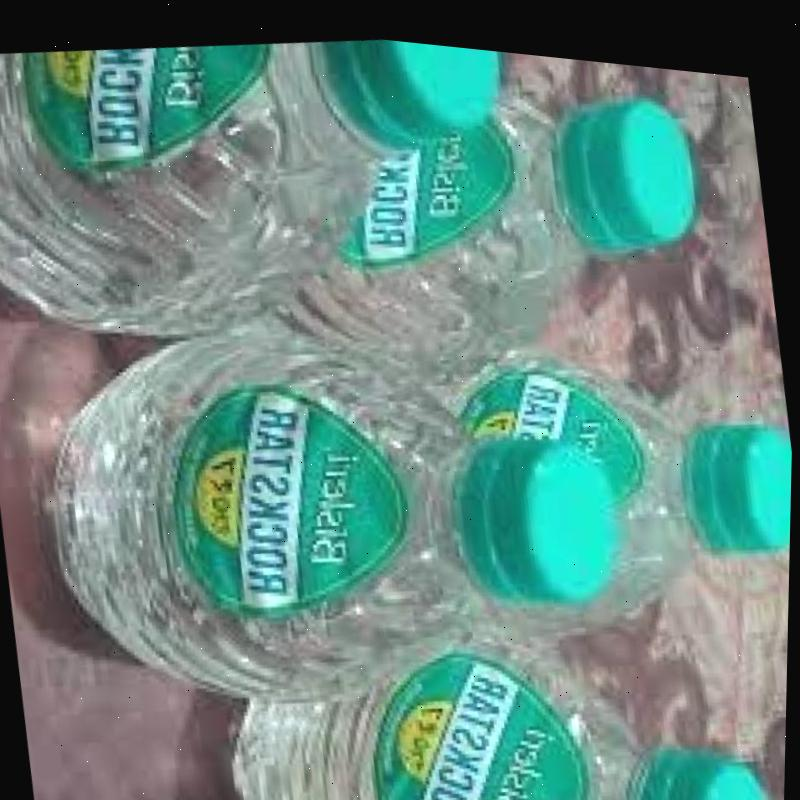botella: (24, 262, 652, 752), (0, 0, 538, 389), (194, 28, 721, 404), (431, 291, 796, 660), (216, 568, 777, 800)
